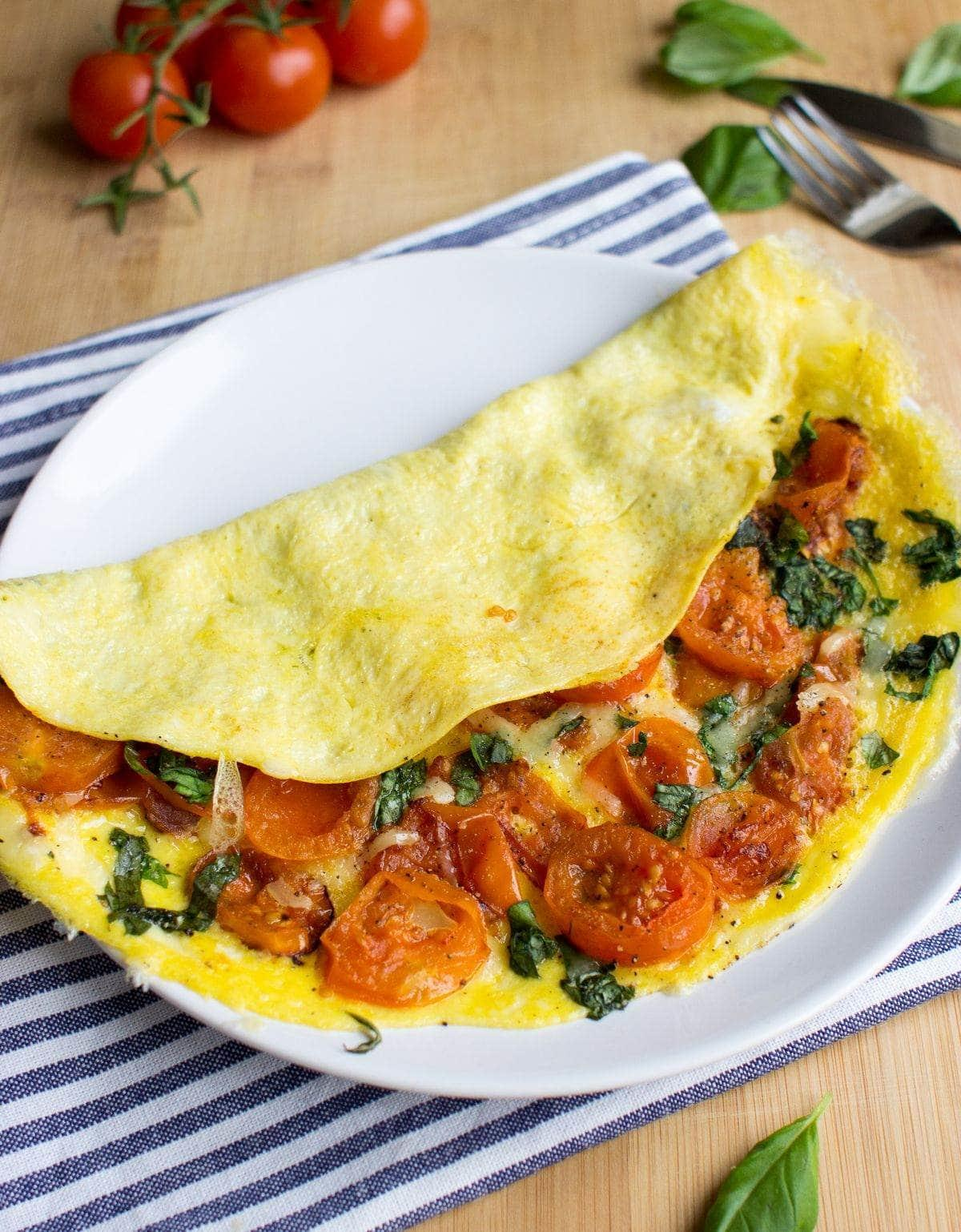omelette: (17, 318, 961, 1018)
